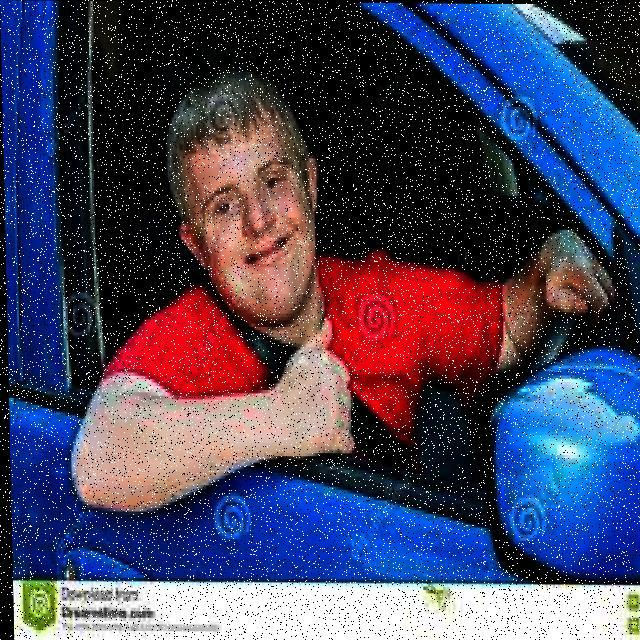seatbelt: (206, 259, 427, 458)
